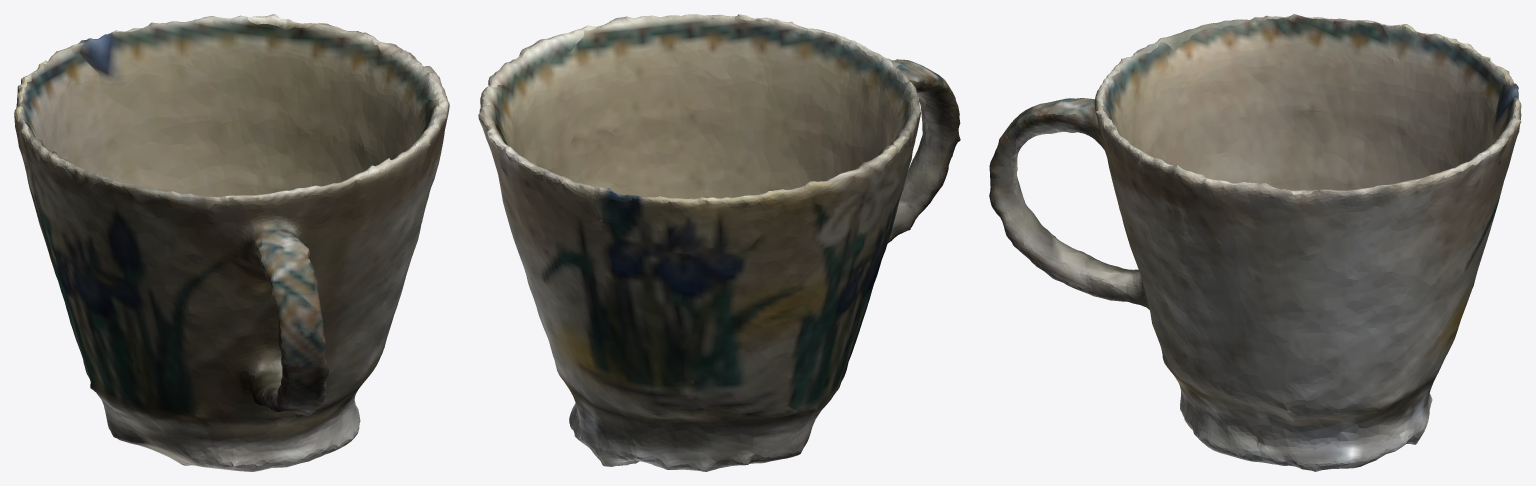
Rendered from cup.glb.
The picture shows the model from 3 angles, left to right: view 1: azimuth 30°, elevation 25°; view 2: azimuth 150°, elevation 25°; view 3: azimuth 270°, elevation 25°; orthographic projection. The views are drawn at different scales.
Parts seen in each view (by area): view 1: world; view 2: world; view 3: world.
Part boxes in pixels (x1=…): world: x1=14, y1=14, x2=449, y2=471; world: x1=478, y1=14, x2=960, y2=471; world: x1=989, y1=14, x2=1521, y2=471.
Bounding box in the file's own units: 0.1016 × 0.0865 × 0.1263.
Materials: 1 (1 with a texture image).
